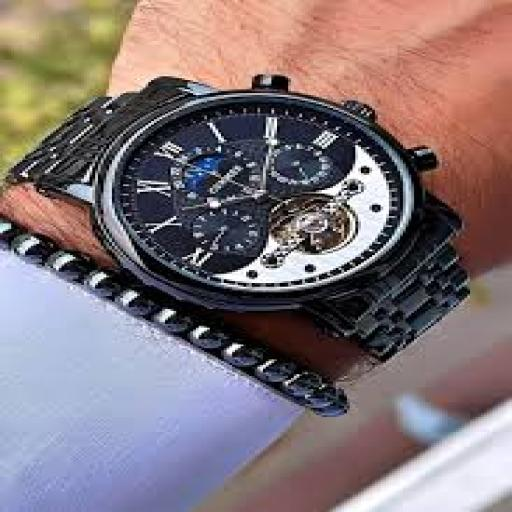KolSaati: (8, 42, 474, 401)
